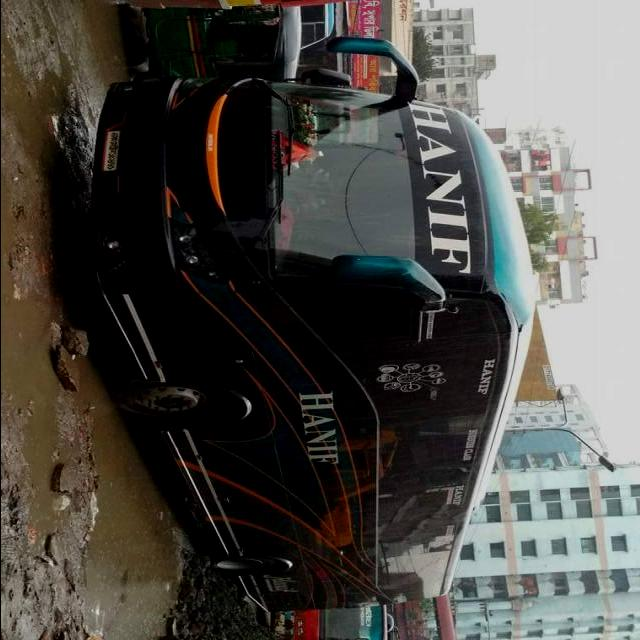bus: (81, 36, 538, 614)
